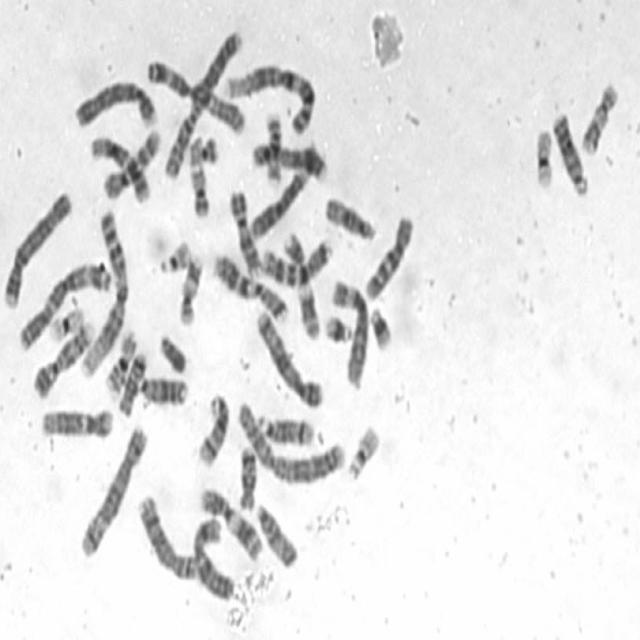A1: (78, 207, 130, 379), (220, 57, 318, 138)
A2: (160, 30, 242, 180), (234, 396, 346, 487)
A3: (16, 259, 113, 353), (144, 55, 247, 134)
B4: (1, 187, 72, 309), (72, 75, 158, 129)
B5: (77, 422, 149, 560), (254, 305, 324, 410)
C10: (361, 210, 415, 304), (100, 124, 163, 202)
C11: (195, 484, 262, 564), (283, 228, 320, 342)
C12: (88, 132, 150, 203), (38, 404, 114, 441)
C6: (327, 275, 371, 391), (247, 162, 311, 240)
C7: (212, 249, 290, 325), (259, 232, 334, 288)
C8: (135, 489, 198, 584), (249, 136, 329, 182)
C9: (30, 318, 96, 401), (226, 186, 262, 278)
D13: (550, 108, 590, 200), (136, 372, 189, 409)
D14: (195, 388, 231, 469), (254, 409, 316, 448)
D15: (254, 498, 298, 570), (322, 193, 377, 241)
E16: (102, 327, 138, 396), (263, 111, 283, 188)
E17: (577, 78, 619, 157), (176, 252, 204, 327)
E18: (115, 347, 148, 418), (235, 441, 258, 514)
F19: (46, 302, 86, 343), (532, 126, 555, 190)
F20: (187, 161, 212, 218), (187, 130, 220, 168)
G21: (368, 302, 393, 352), (323, 309, 353, 346)
G22: (345, 419, 381, 483), (157, 238, 193, 274)
X: (190, 513, 234, 603)
Y: (157, 330, 188, 374)
